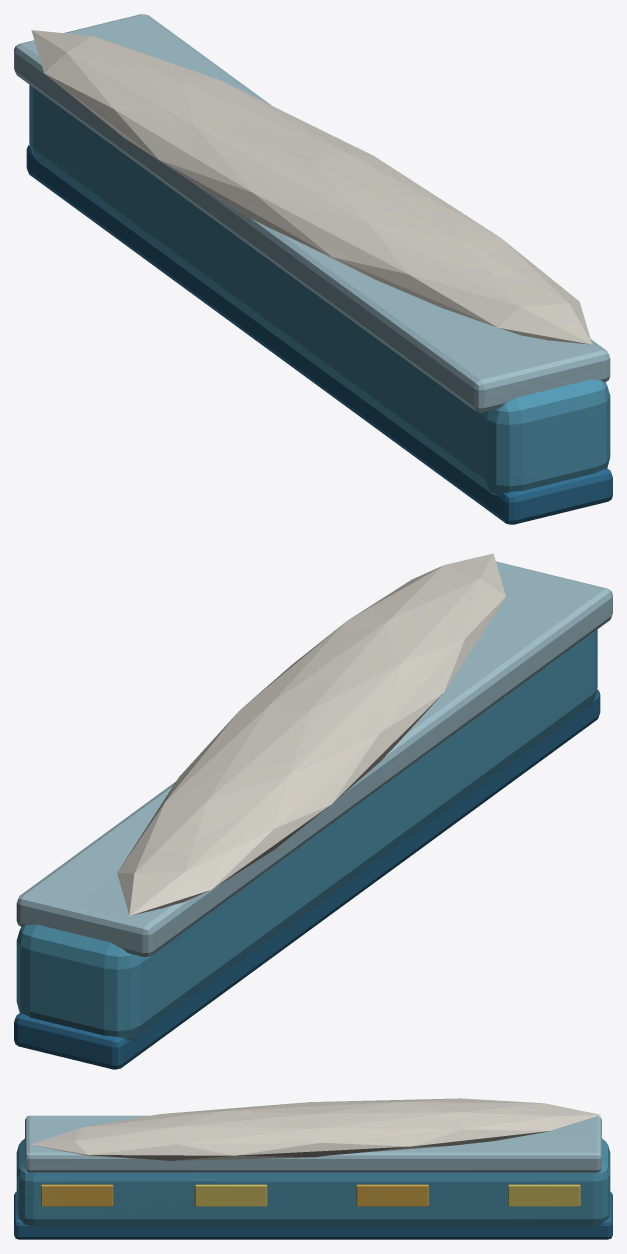
Rendered from glacier_edge_kerb_v1.glb.
3 views of the same model, one above another, from view 1: azimuth 30°, elevation 25°; view 2: azimuth 150°, elevation 25°; view 3: azimuth 270°, elevation 25° (orthographic). The views are drawn at different scales.
Parts seen in each view (by area): view 1: glacier_edge_kerb_v1; view 2: glacier_edge_kerb_v1; view 3: glacier_edge_kerb_v1.
Part boxes in pixels (left/top/right/bottom): glacier_edge_kerb_v1: left=14, top=14, right=612, bottom=524; glacier_edge_kerb_v1: left=14, top=553, right=612, bottom=1069; glacier_edge_kerb_v1: left=14, top=1098, right=612, bottom=1239.
Bounding box in the file's own units: 1.12 × 1.1 × 5.45.
